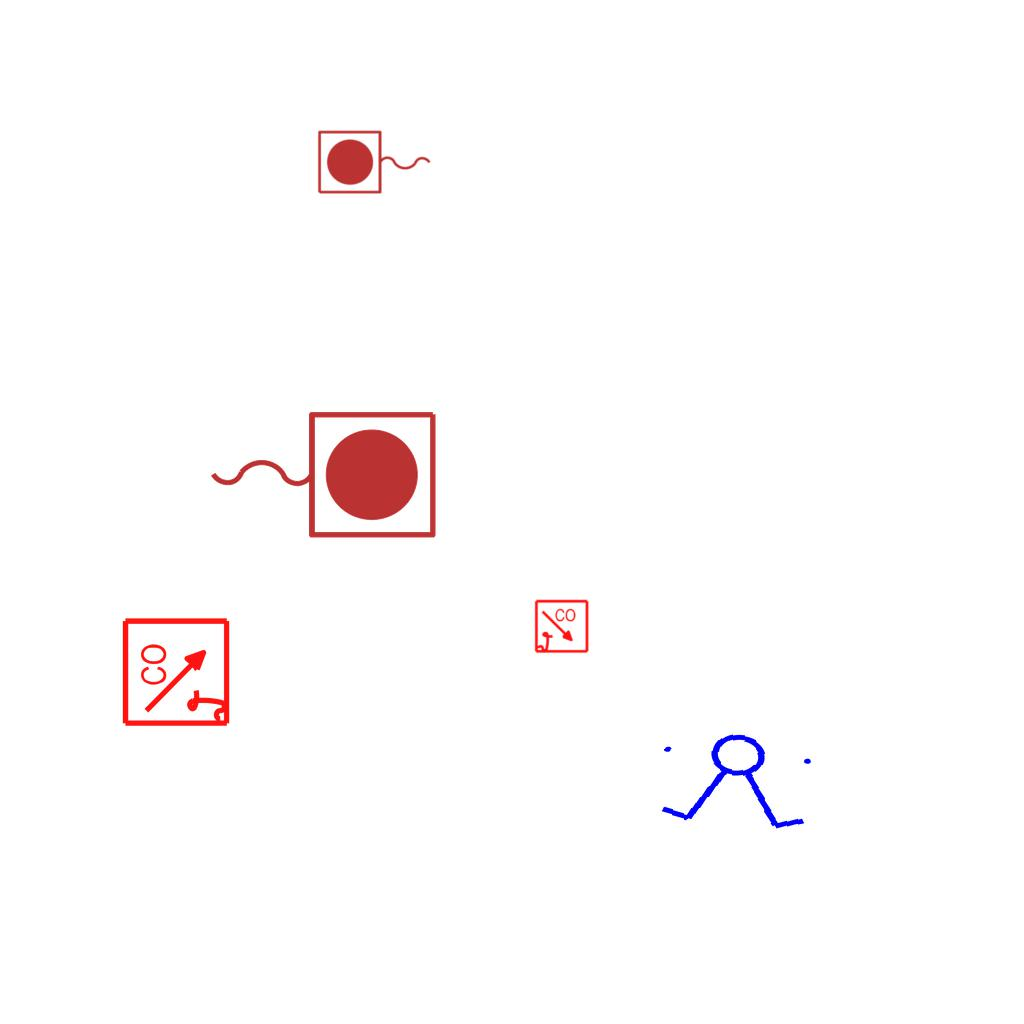ROA_Rauchmelder_optisch_mit_Signalgeber_(Sockelsirene): (121, 615, 234, 728), (534, 599, 590, 655)
Serienschalter: (649, 725, 825, 837)
Zugtaster: (200, 401, 444, 545), (314, 127, 436, 199)
